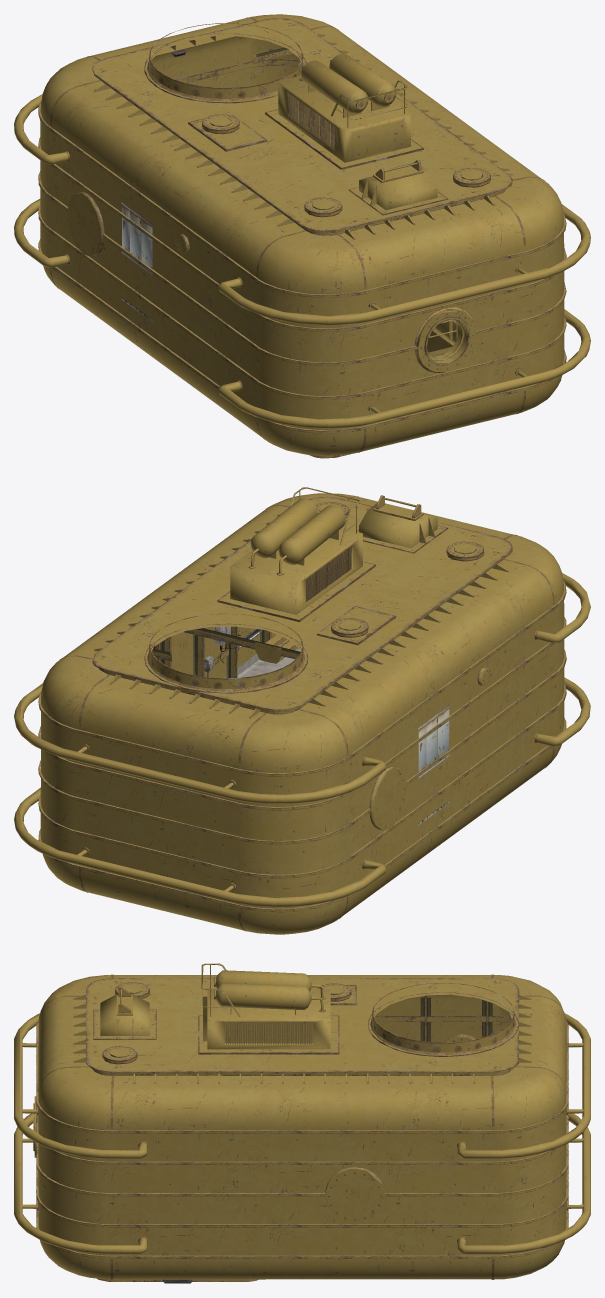
Rendered from oilrig_moon_pool.glb.
3 renders of one model, top to bottom at view 1: azimuth 30°, elevation 25°; view 2: azimuth 150°, elevation 25°; view 3: azimuth 270°, elevation 25°, orthographic. The views are drawn at different scales.
Parts seen in each view (by area): view 1: oilrig_moon_pool_ext, oilrig_moon_pool_int_LOD0, electrical_box_a (1); view 2: oilrig_moon_pool_ext, oilrig_moon_pool_int_LOD0, electrical_box_a (1); view 3: oilrig_moon_pool_ext, oilrig_moon_pool_int_LOD0.
Boxes of the visible parts, x1=… form: oilrig_moon_pool_ext: x1=14, y1=14, x2=590, y2=458; oilrig_moon_pool_int_LOD0: x1=151, y1=36, x2=461, y2=358; electrical_box_a (1): x1=121, y1=202, x2=153, y2=268; oilrig_moon_pool_ext: x1=14, y1=487, x2=590, y2=934; oilrig_moon_pool_int_LOD0: x1=152, y1=626, x2=300, y2=678; electrical_box_a (1): x1=418, y1=705, x2=449, y2=771; oilrig_moon_pool_ext: x1=14, y1=963, x2=590, y2=1281; oilrig_moon_pool_int_LOD0: x1=374, y1=994, x2=511, y2=1042.
Size of the model in its own units: 10.38 by 8.52 by 16.38.
Materials: 18 (18 with a texture image).
